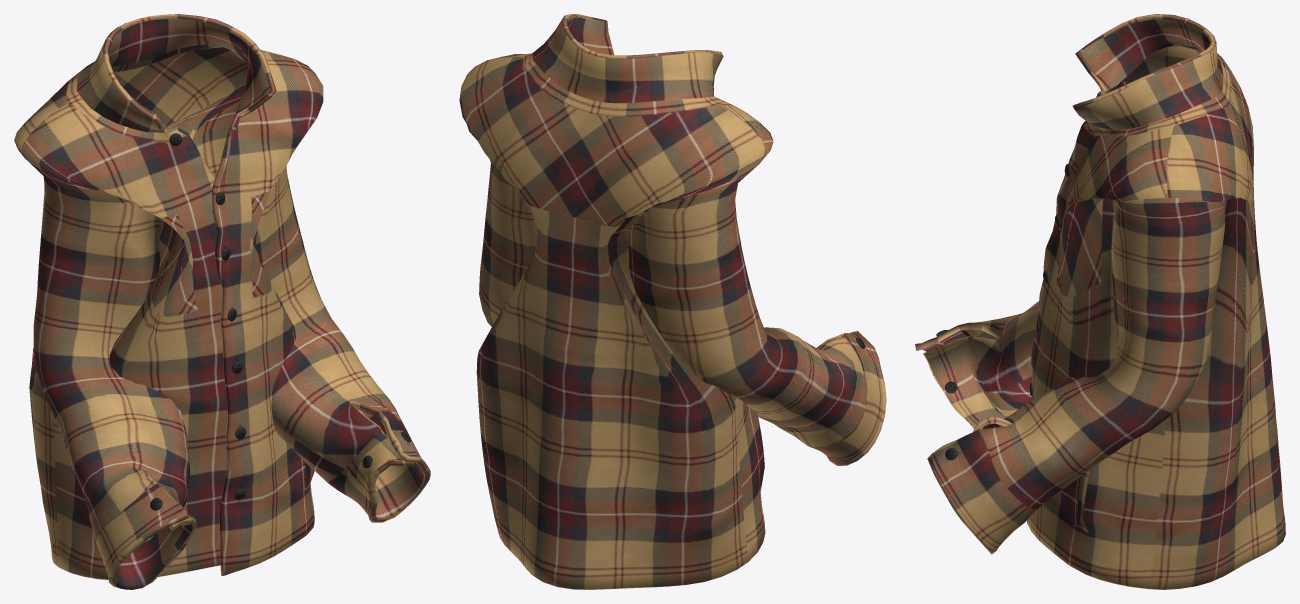
File: plaid_kit.glb
3 renders of one model, left to right at view 1: azimuth 30°, elevation 25°; view 2: azimuth 150°, elevation 25°; view 3: azimuth 270°, elevation 25°, orthographic. The views are drawn at different scales.
Visible parts, largest first — view 1: plaid, plaidbuttons; view 2: plaid; view 3: plaid, plaidbuttons.
Boxes of the visible parts, box(x1,y1,x2,y2) form: plaid: box(14, 14, 430, 589); plaidbuttons: box(150, 133, 410, 510); plaid: box(459, 14, 886, 589); plaid: box(915, 14, 1285, 589); plaidbuttons: box(936, 97, 1096, 460).
Bounding box in the file's own units: 0.5283 × 0.8032 × 0.5399.
Materials: 2 (2 with a texture image).
